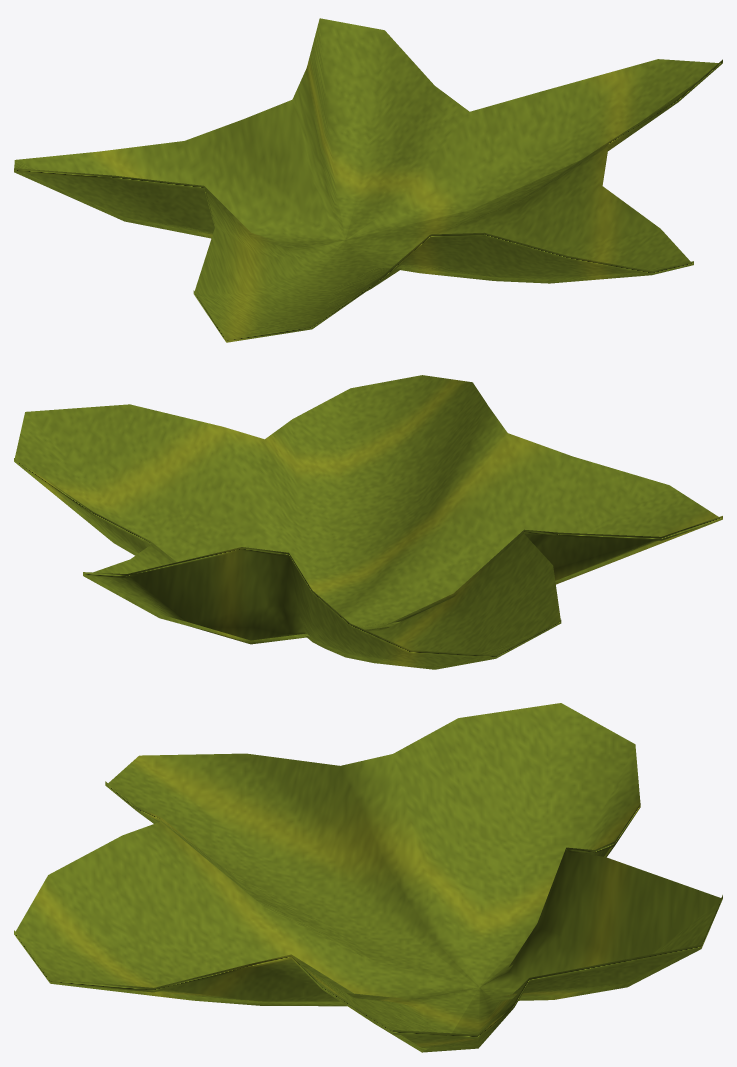
File: leaf-yellow.glb
3 renders of one model, top to bottom at view 1: azimuth 30°, elevation 25°; view 2: azimuth 150°, elevation 25°; view 3: azimuth 270°, elevation 25°, orthographic. The views are drawn at different scales.
Bounding box in the file's own units: 0.6541 × 0.1287 × 0.572.
Materials: 1 (1 with a texture image).
